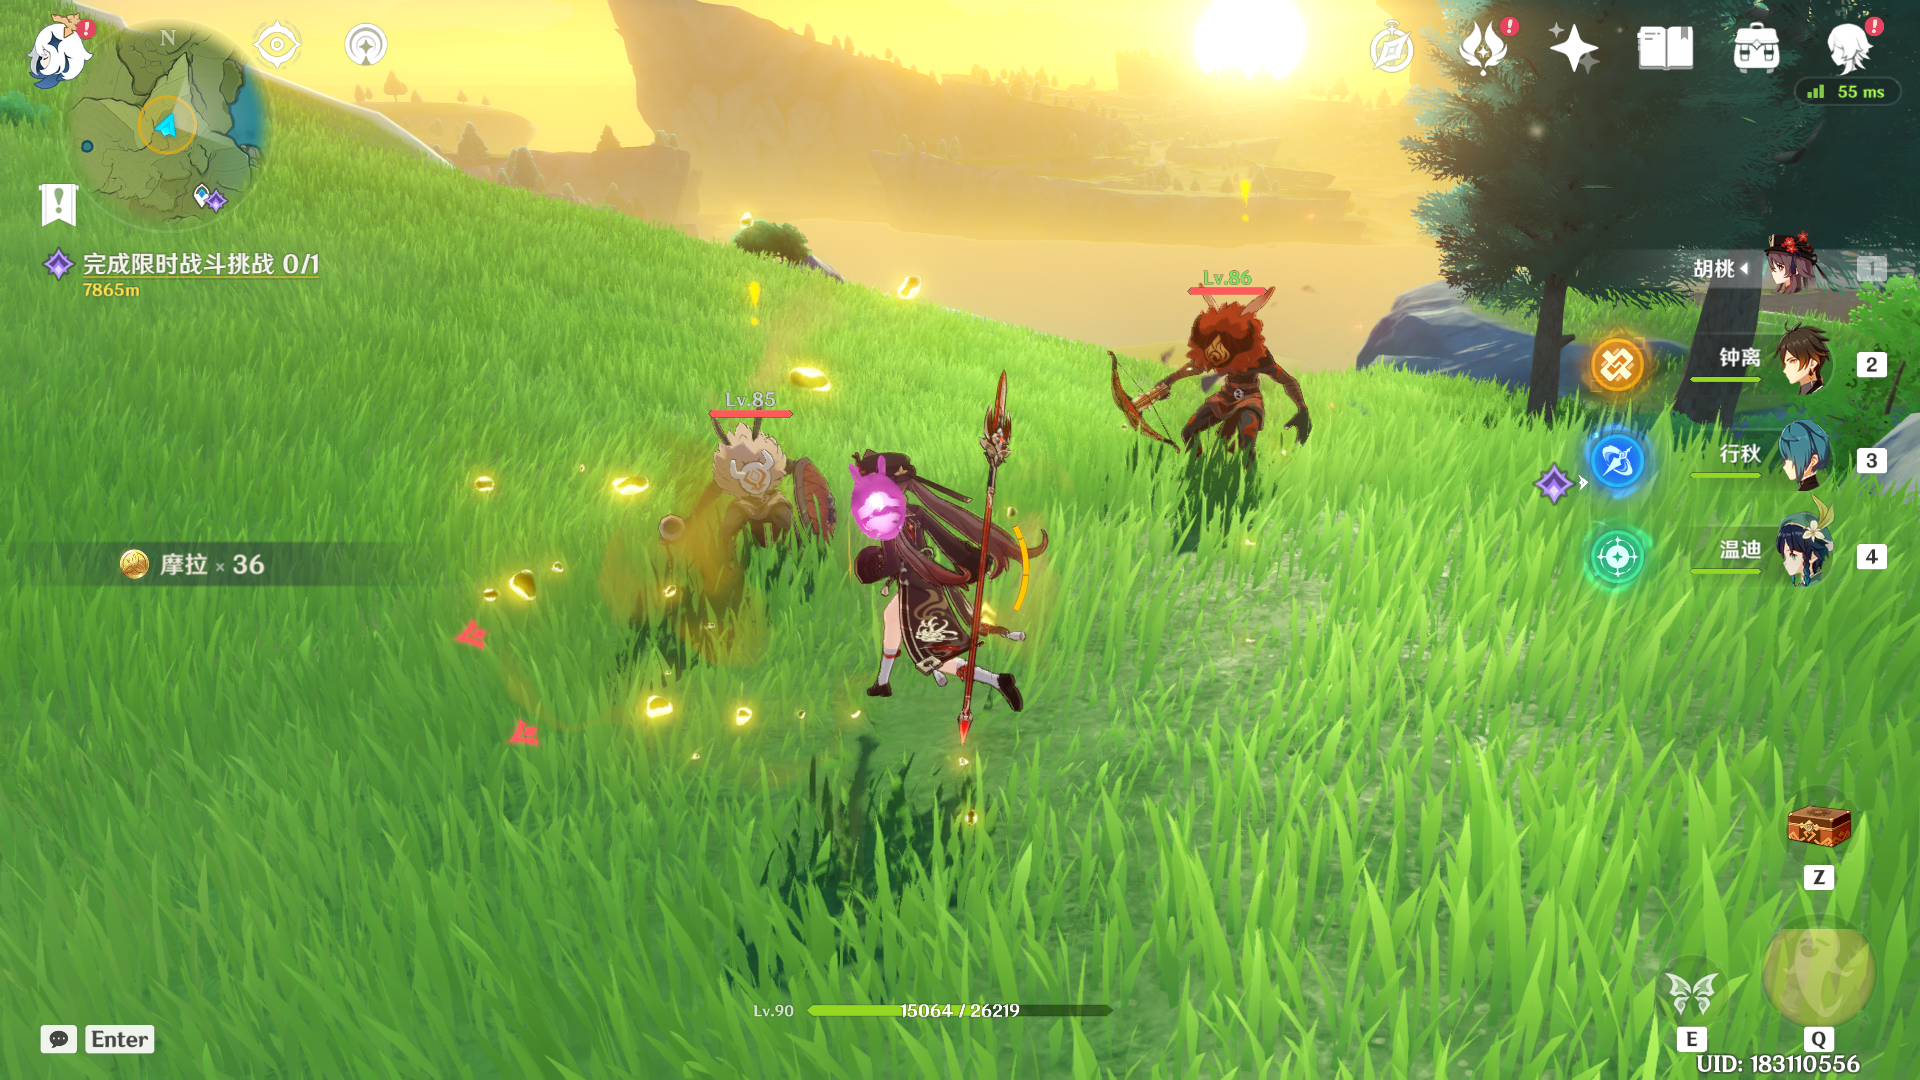character: (833, 404, 1093, 806)
hili: (1083, 239, 1375, 549), (644, 419, 858, 638)
